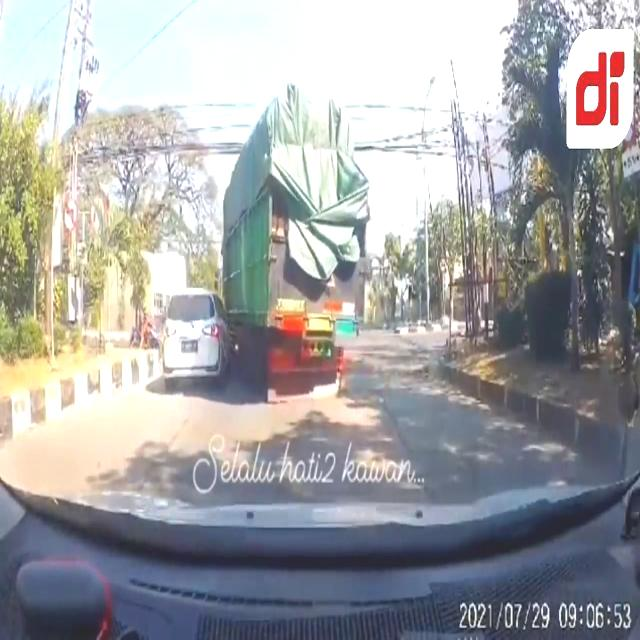accident: (158, 84, 368, 404)
